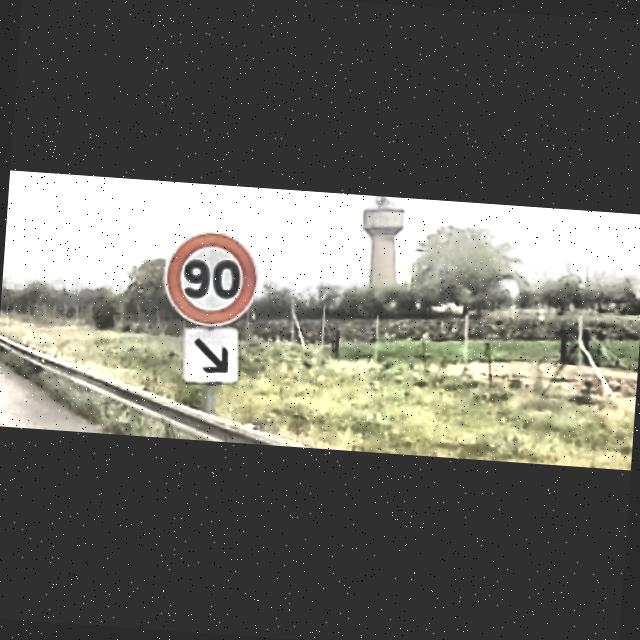speed_90: (160, 227, 261, 331)
